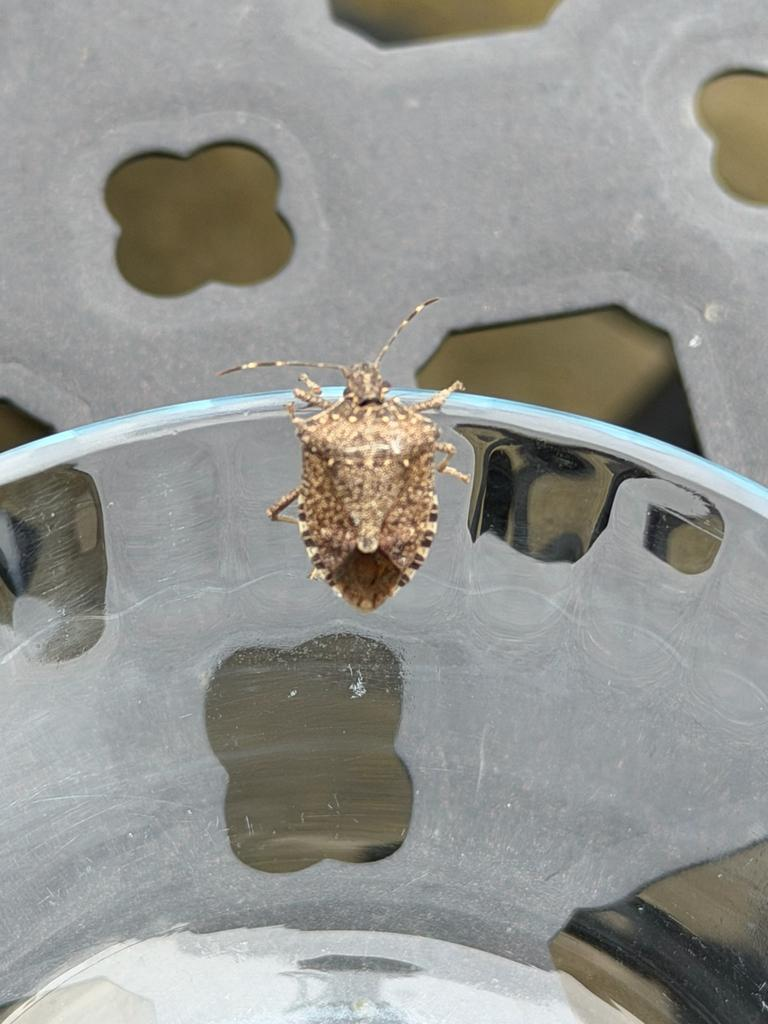stink_bugs: (186, 271, 502, 650)
